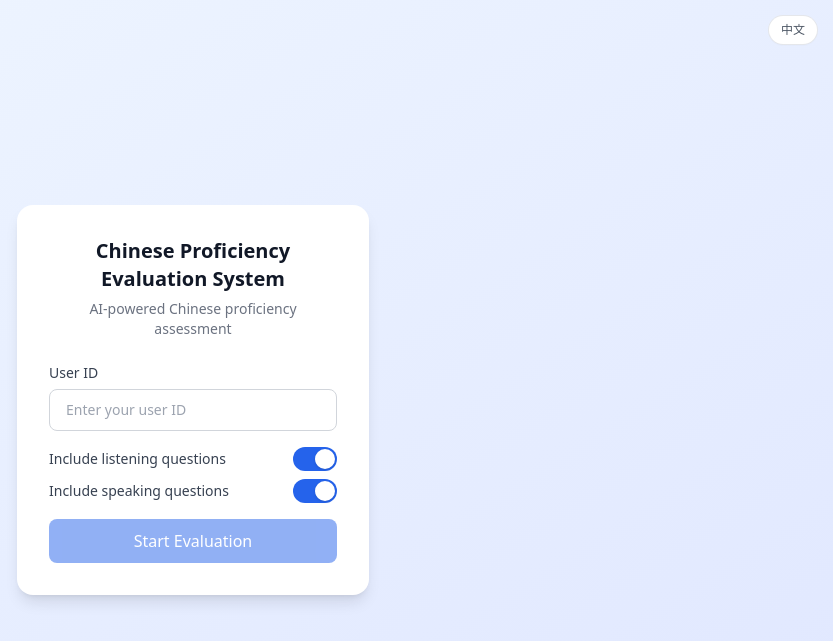
Test: LoginView › shows parameterized backend error message on failure
This screenshot has width=833, height=641.
Type "test-user" into the field with id "userId" at (193, 410), box [49,389,337,431]
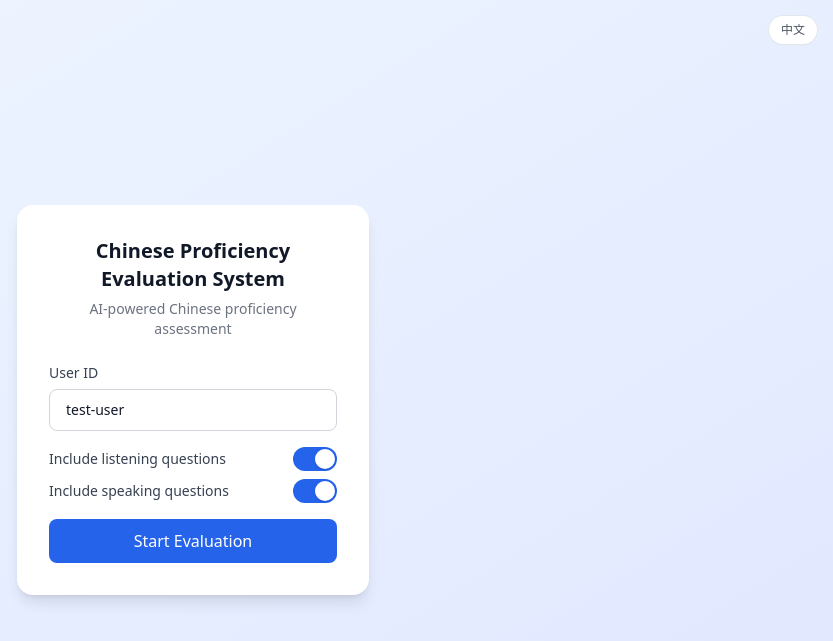
Submit the form, box [49,363,337,563]
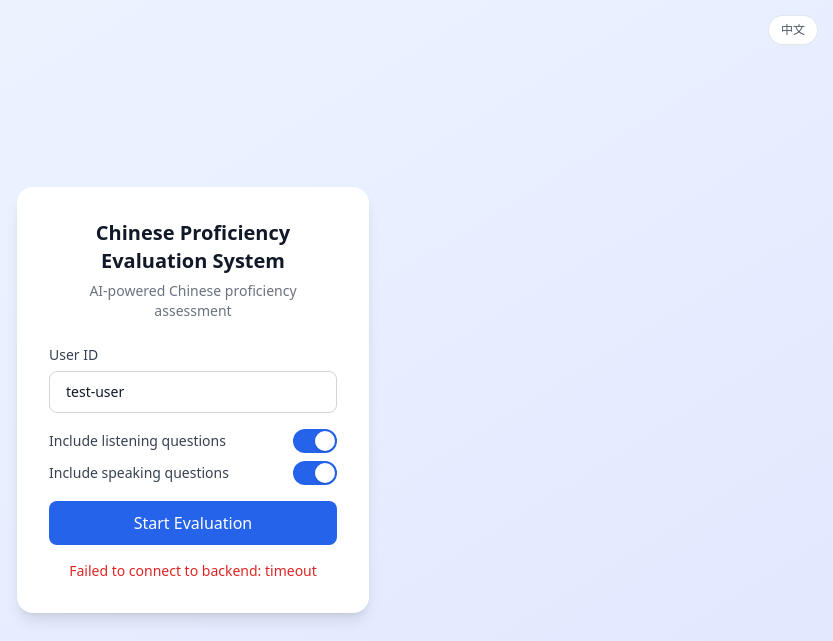
Expected: the text "Failed to connect to backend: timeout" is shown, [49,561,337,581]
